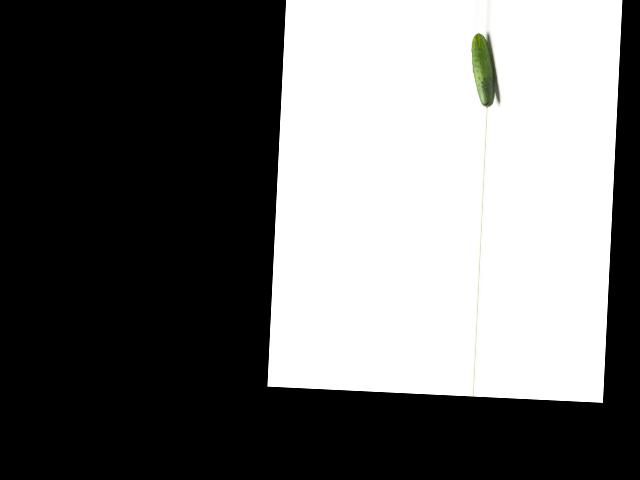cucumber: (468, 33, 498, 108)
